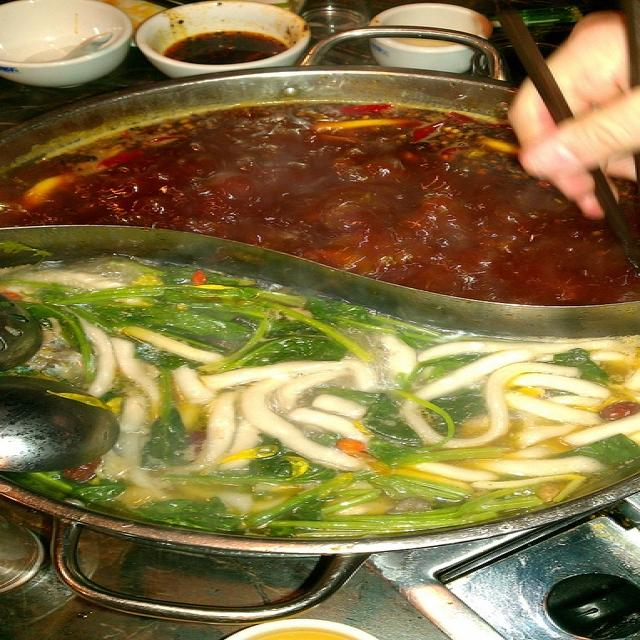汤锅炖物: (5, 45, 632, 584)
